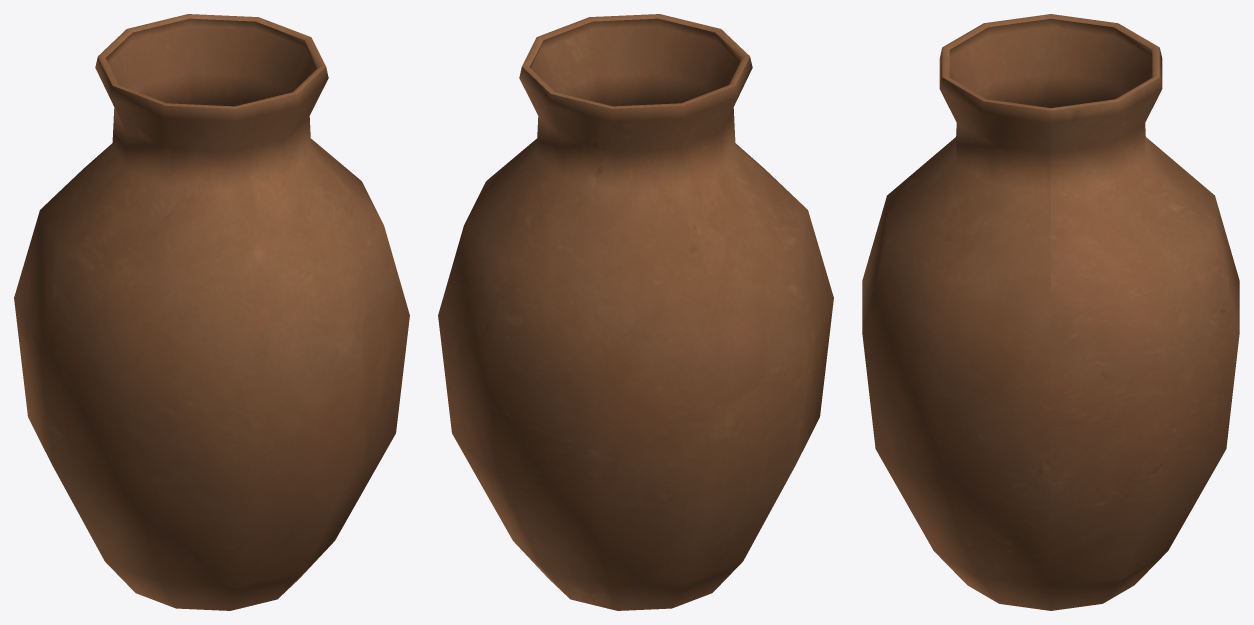
The model's file is PotteryJar3.fbx.
3 renders of one model, left to right at view 1: azimuth 30°, elevation 25°; view 2: azimuth 150°, elevation 25°; view 3: azimuth 270°, elevation 25°, orthographic.
Visible parts, largest first — view 1: PotteryJar3_; view 2: PotteryJar3_; view 3: PotteryJar3_.
Boxes of the visible parts, <box> form: PotteryJar3_: <box>14,14,409,610</box>; PotteryJar3_: <box>438,14,833,610</box>; PotteryJar3_: <box>862,14,1239,610</box>.
Size of the model in its own units: 10.55 by 15.08 by 10.03.
